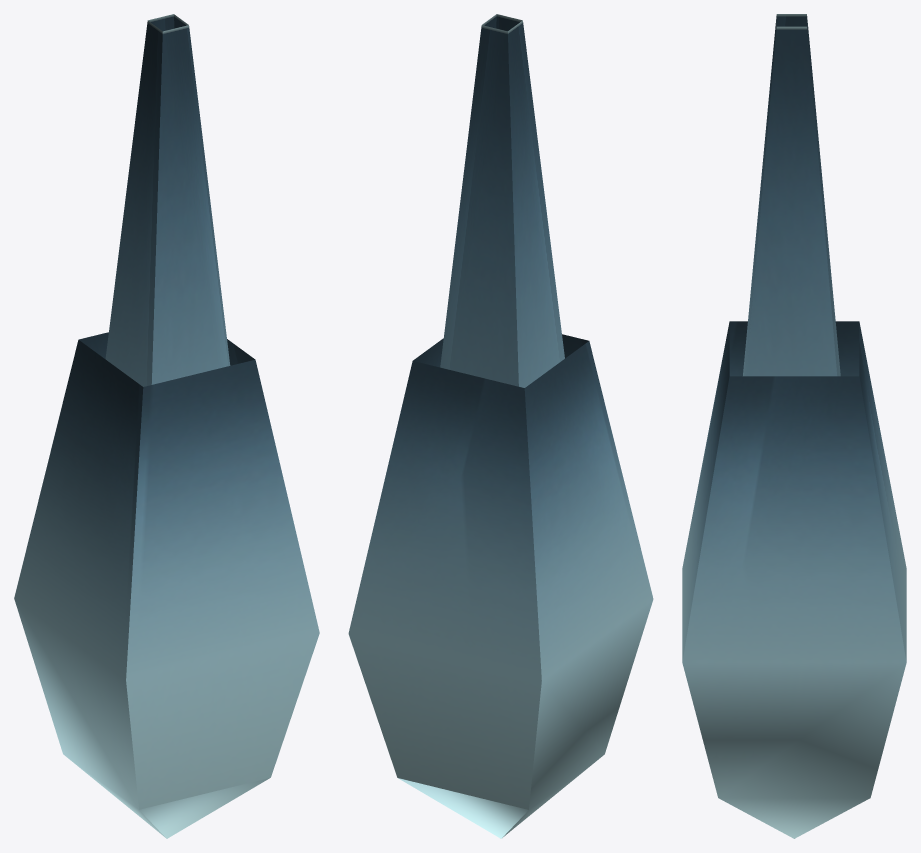
File: WEBGOO.fbx
3 views of the same model, side by side, from view 1: azimuth 30°, elevation 25°; view 2: azimuth 150°, elevation 25°; view 3: azimuth 270°, elevation 25° (orthographic).
Visible parts, largest first — view 1: WEBGOO; view 2: WEBGOO; view 3: WEBGOO.
Part boxes in pixels (x1,y1,x2,y2): WEBGOO: (14, 14, 319, 838); WEBGOO: (348, 14, 653, 838); WEBGOO: (682, 14, 906, 838).
Size of the model in its own units: 879 by 3540 by 879.
1 material, 1 textured.
